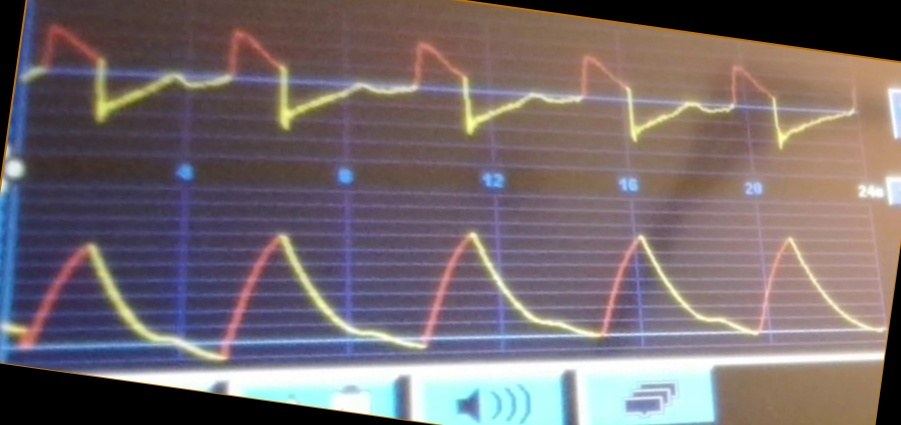Ineffective_effort Flow: (27, 19, 857, 151)
Ineffective_effort Volume: (10, 228, 880, 360)
